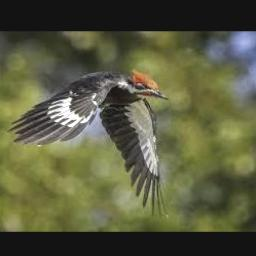Woodpecker: (7, 68, 169, 218)
